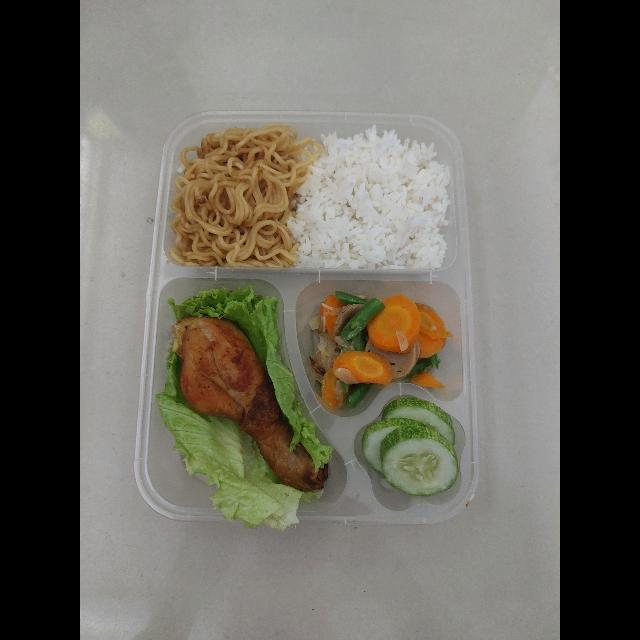bento: (128, 106, 495, 549)
